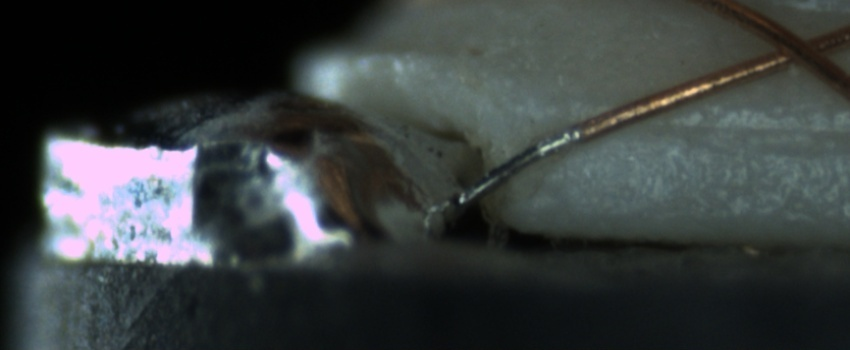CL: (749, 16, 843, 77)
DL: (621, 99, 843, 158)
TS: (452, 127, 581, 210)
TTCW: (451, 99, 624, 211)
